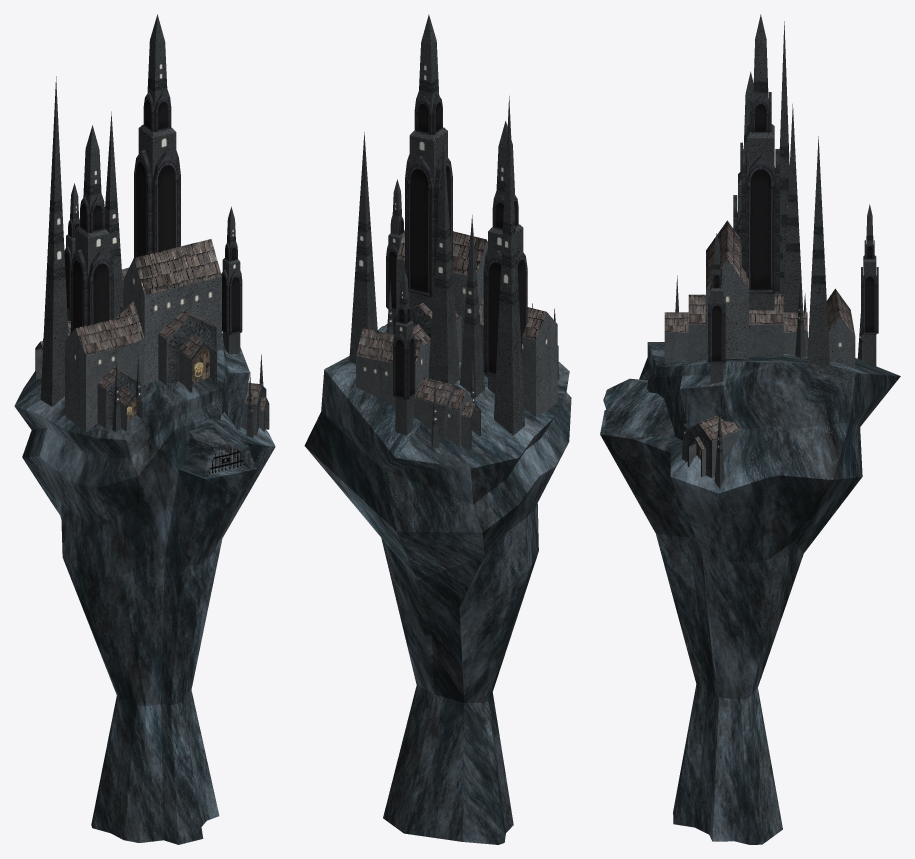
File: DraculasCastle.fbx
3 renders of one model, left to right at view 1: azimuth 30°, elevation 25°; view 2: azimuth 150°, elevation 25°; view 3: azimuth 270°, elevation 25°, orthographic. The views are drawn at different scales.
Parts seen in each view (by area): view 1: VampireCastle; view 2: VampireCastle; view 3: VampireCastle.
Part boxes in pixels (x1,y1,x2,y2): VampireCastle: [14, 14, 275, 844]; VampireCastle: [304, 14, 571, 844]; VampireCastle: [600, 14, 900, 844].
Size of the model in its own units: 18.26 by 67.12 by 22.63.
